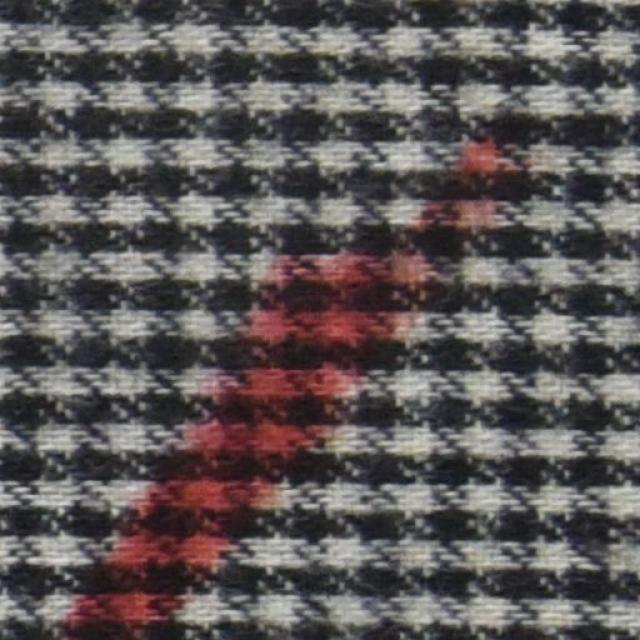Stain: (45, 132, 516, 639)
